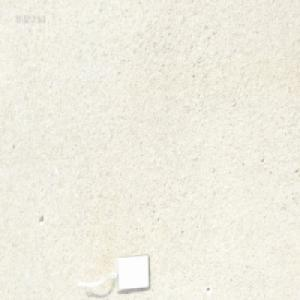LuggageTag: (75, 251, 151, 293)
